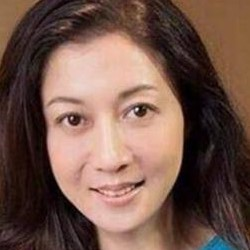unmask: (27, 75, 190, 236)
